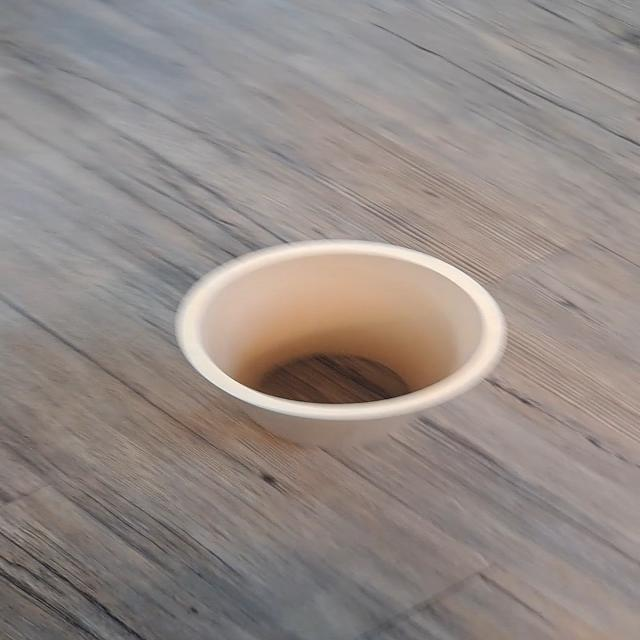CORAL: (160, 226, 540, 447)
